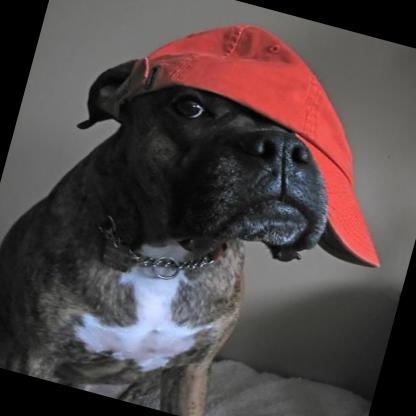boxer: (0, 19, 363, 416)
